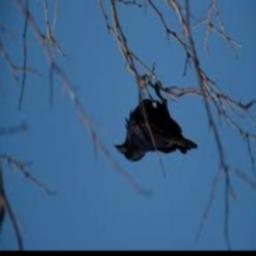Crow: (112, 82, 197, 163)
